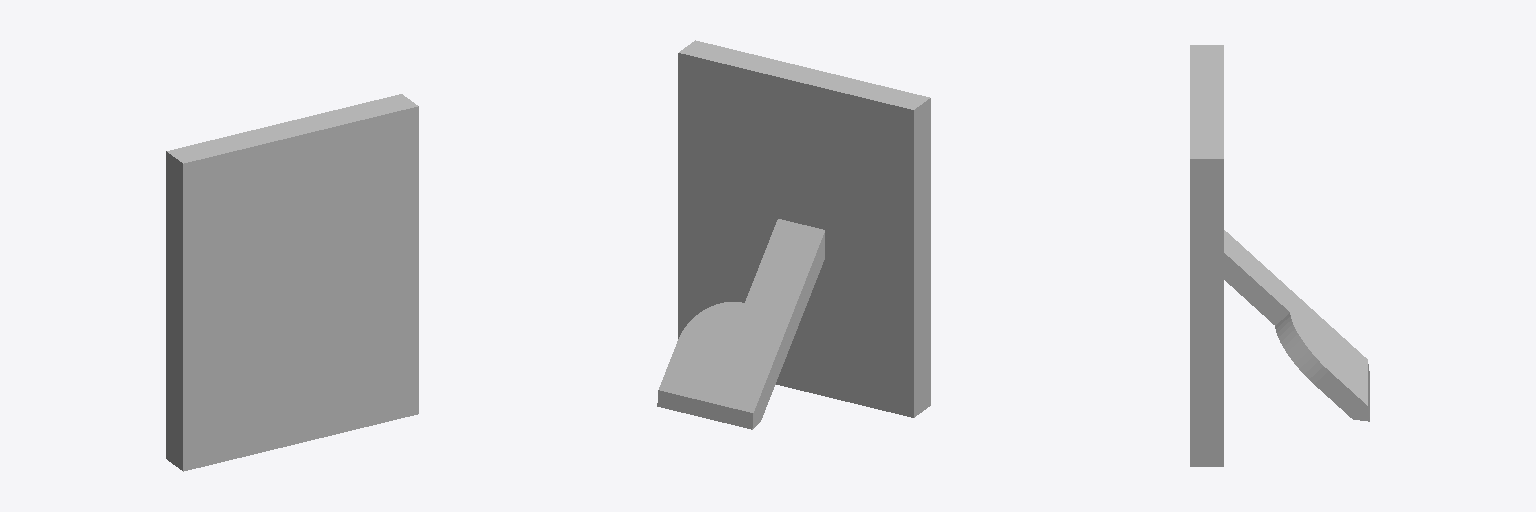
Rendered from PictureFrameVertical.obj.
3 renders of one model, left to right at view 1: azimuth 30°, elevation 25°; view 2: azimuth 150°, elevation 25°; view 3: azimuth 270°, elevation 25°, orthographic.
Bounding box in the file's own units: 0.8 × 1 × 0.5303.